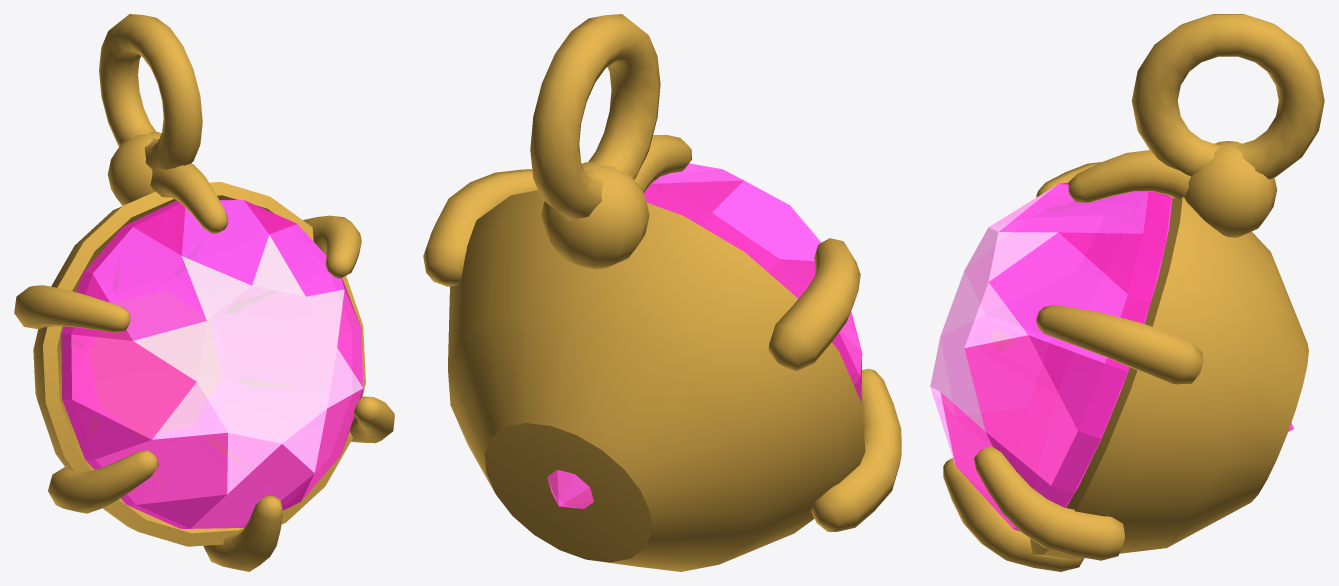
The model's file is item_focus_gem.glb.
The picture shows the model from 3 angles, left to right: view 1: azimuth 30°, elevation 25°; view 2: azimuth 150°, elevation 25°; view 3: azimuth 270°, elevation 25°; orthographic projection. The views are drawn at different scales.
Visible parts, largest first — view 1: FocusGem; view 2: FocusGem; view 3: FocusGem.
Boxes of the visible parts, bbox=[...] form: FocusGem: bbox=[14, 14, 394, 571]; FocusGem: bbox=[423, 14, 901, 571]; FocusGem: bbox=[930, 14, 1324, 571].
Bounding box in the file's own units: 0.1386 × 0.2004 × 0.1288.
